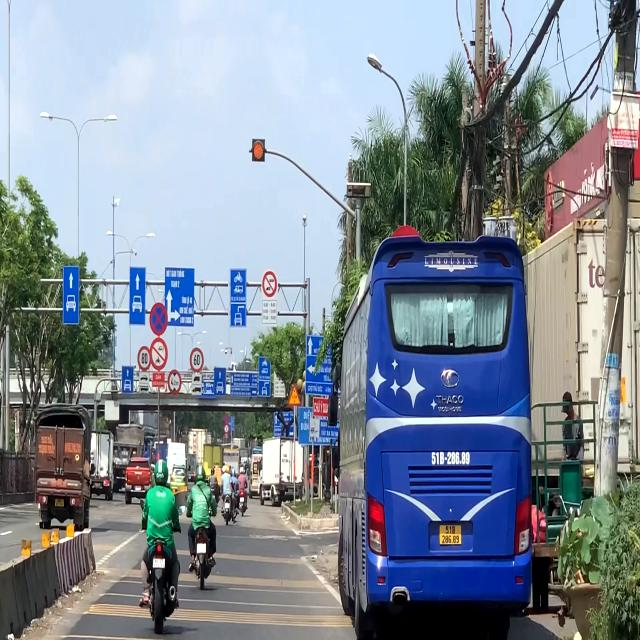P.117: (168, 370, 182, 394)
P.127: (190, 347, 204, 373), (138, 345, 151, 372)
P.130: (148, 301, 168, 337)
S.509a: (288, 384, 301, 408)
